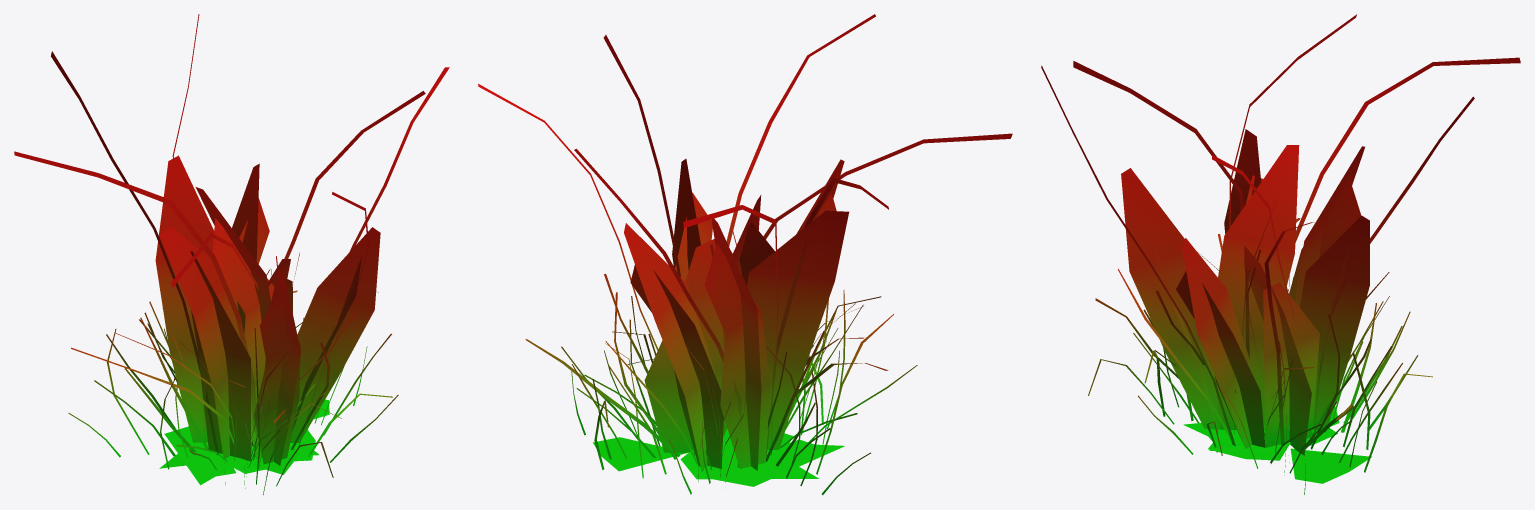
The model's file is Var9_LOD1.fbx.
The picture shows the model from 3 angles, left to right: view 1: azimuth 30°, elevation 25°; view 2: azimuth 150°, elevation 25°; view 3: azimuth 270°, elevation 25°; orthographic projection. The views are drawn at different scales.
Visible parts, largest first — view 1: _8a3d_Var9_LOD1; view 2: _8a3d_Var9_LOD1; view 3: _8a3d_Var9_LOD1.
Boxes of the visible parts, x1=… form: _8a3d_Var9_LOD1: x1=14, y1=14, x2=449, y2=494; _8a3d_Var9_LOD1: x1=478, y1=14, x2=1012, y2=494; _8a3d_Var9_LOD1: x1=1041, y1=14, x2=1520, y2=494.
Bounding box in the file's own units: 22.85 × 18.65 × 22.25.
